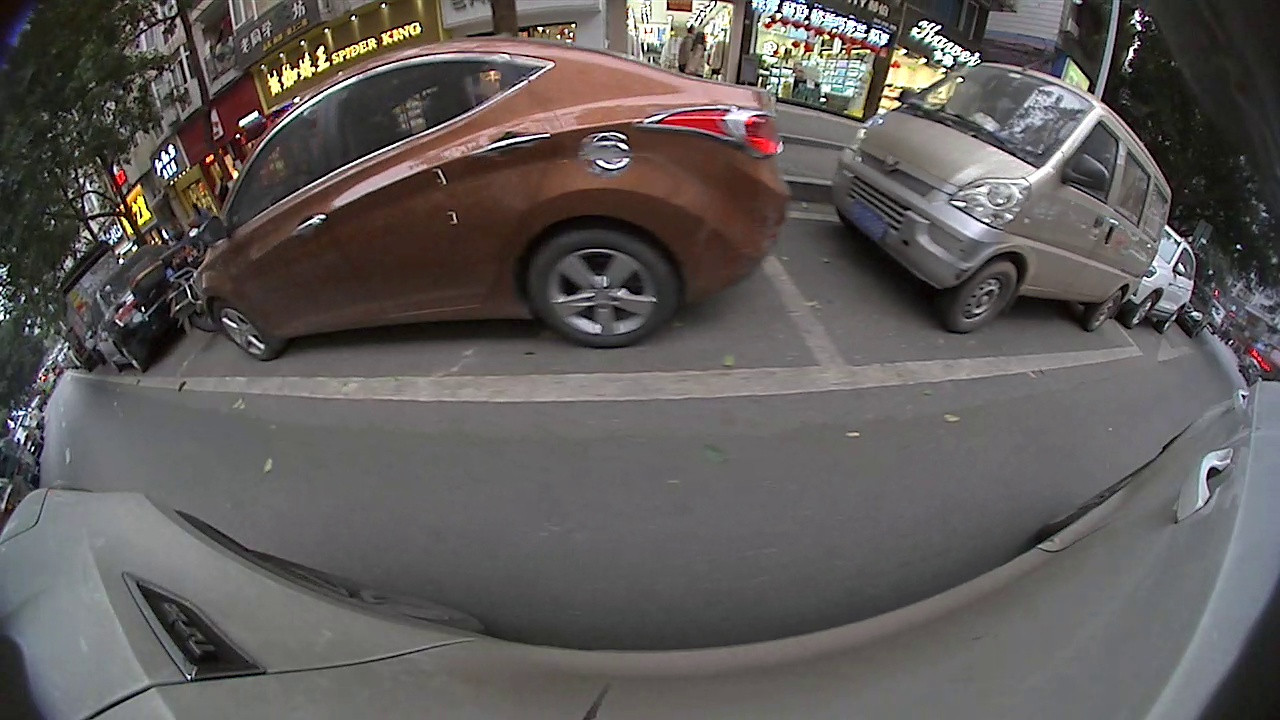car: (195, 34, 792, 365), (827, 57, 1173, 339), (90, 240, 190, 373), (1116, 226, 1200, 335)
front: (952, 263, 1023, 331), (208, 304, 275, 360), (1130, 287, 1156, 334)
rear: (525, 229, 681, 350), (1090, 281, 1123, 337)
